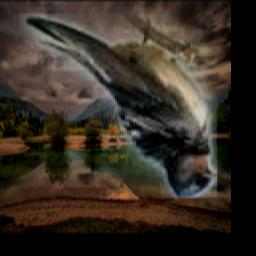Swallow: (0, 15, 217, 199)
